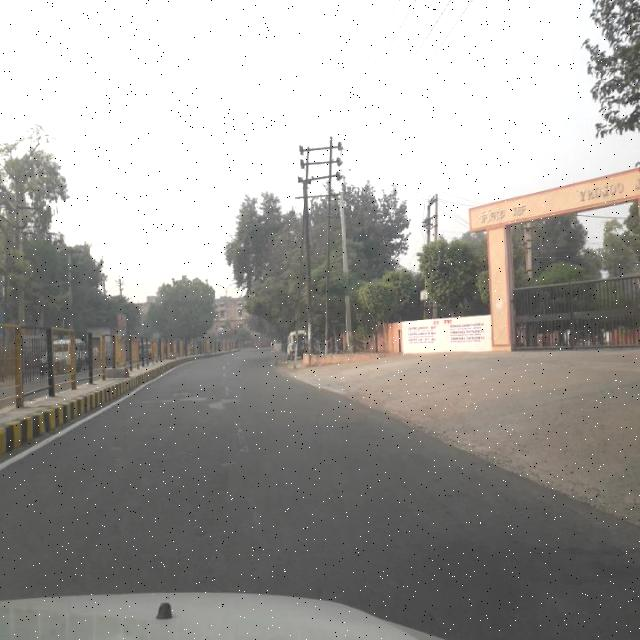D44: (231, 412, 252, 468)
